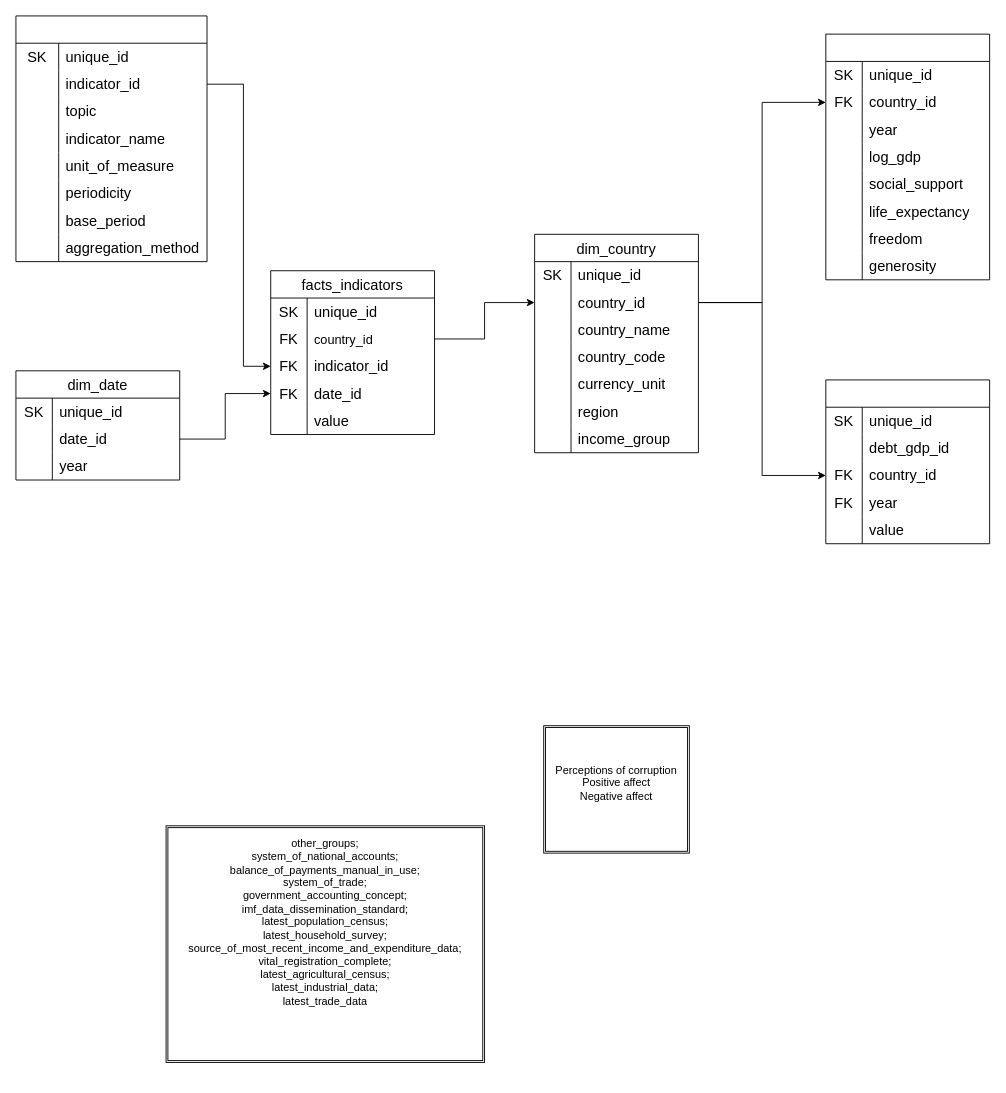
This 1006x1093 diagram has some shape labels left out. Each missing label, with the box of its shape:
dim_gdp: (825, 379, 990, 544)
dim_happiness: (825, 33, 990, 280)
dim_series: (15, 15, 207, 262)
